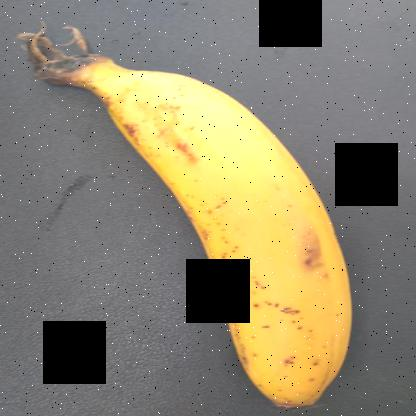ripe: (72, 27, 356, 406)
